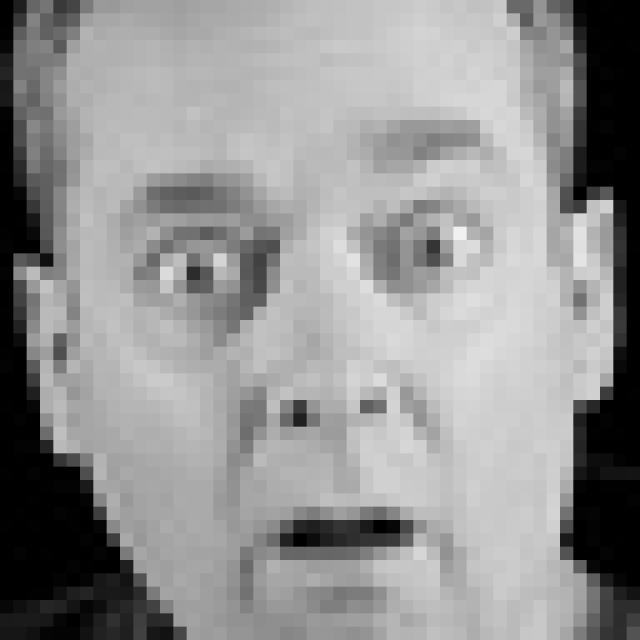surprise: (120, 106, 526, 600)
